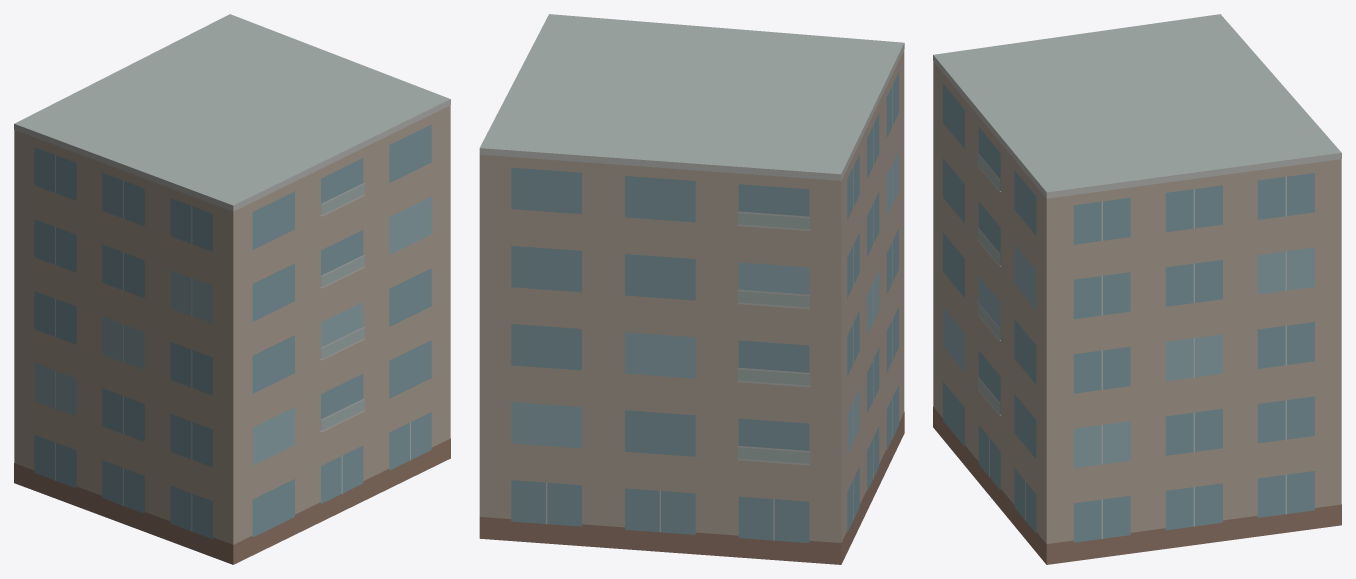
The model's file is survey-upis-32928076.glb.
3 renders of one model, left to right at view 1: azimuth 30°, elevation 25°; view 2: azimuth 150°, elevation 25°; view 3: azimuth 270°, elevation 25°, orthographic. The views are drawn at different scales.
Parts seen in each view (by area): view 1: survey-upis-32928076.tmp; view 2: survey-upis-32928076.tmp; view 3: survey-upis-32928076.tmp.
Boxes of the visible parts, x1,y1,x2,y2 form: survey-upis-32928076.tmp: (14,14,450,564); survey-upis-32928076.tmp: (479,14,904,564); survey-upis-32928076.tmp: (933,14,1341,564).
Bounding box in the file's own units: 14.85 × 14.45 × 14.38.
